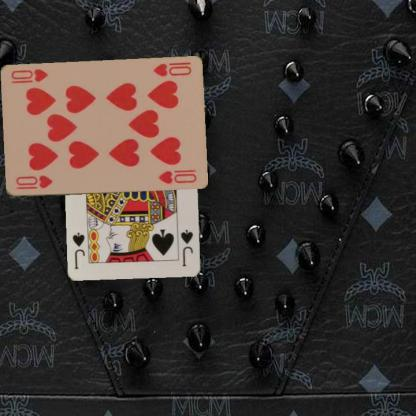10h: (12, 172, 53, 190), (150, 61, 192, 78)
Js: (178, 227, 194, 268)
